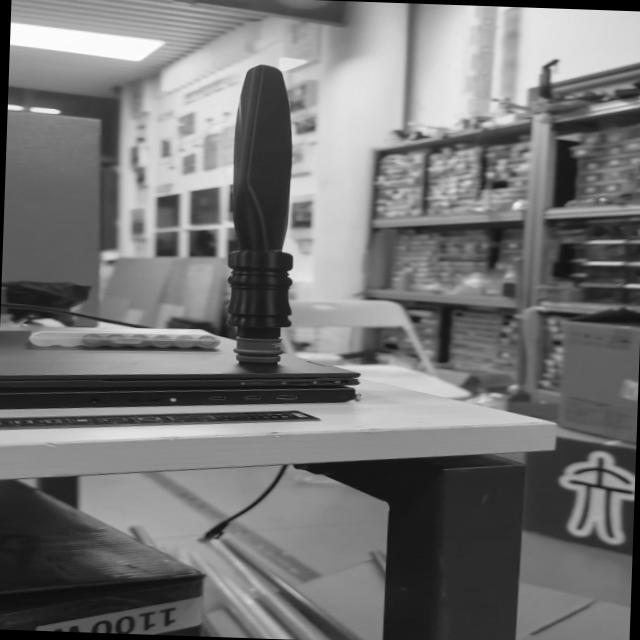base: (233, 336, 284, 362)
